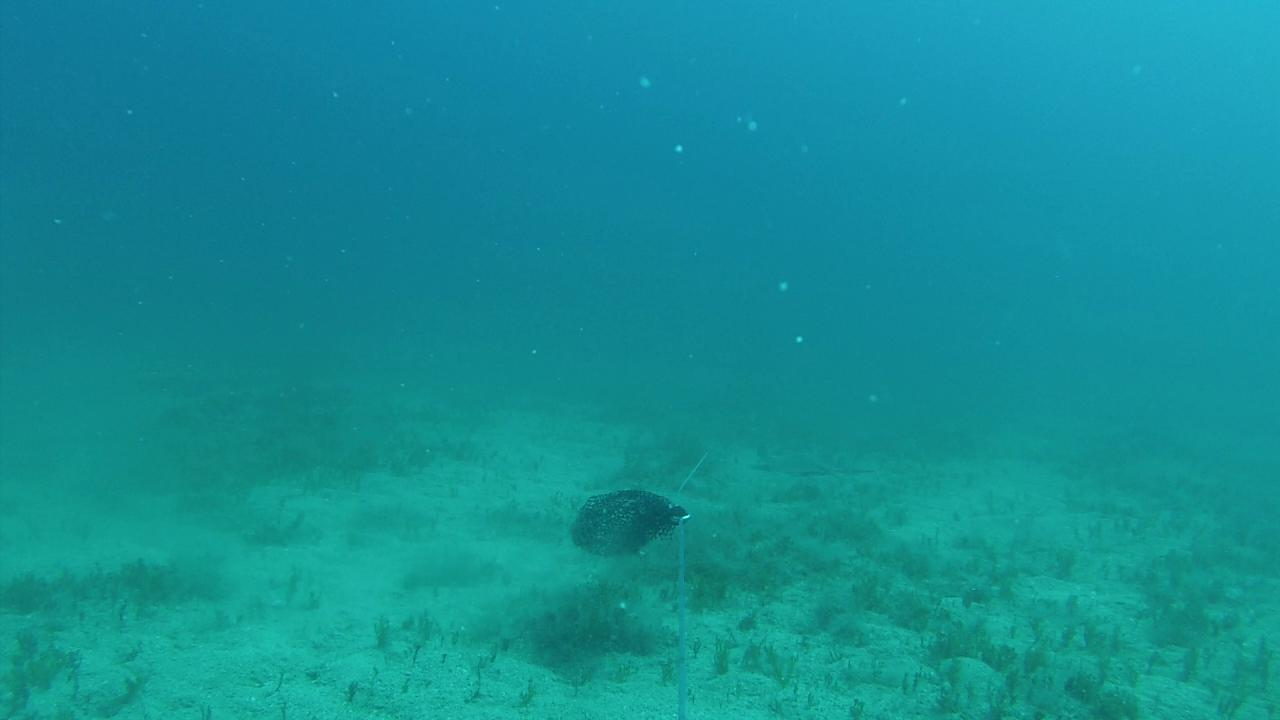dasyatis: (758, 434, 880, 474)
